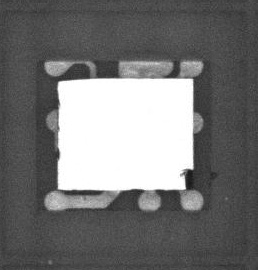DIE_INK: (45, 257, 56, 267), (211, 169, 220, 181), (223, 195, 230, 202)
